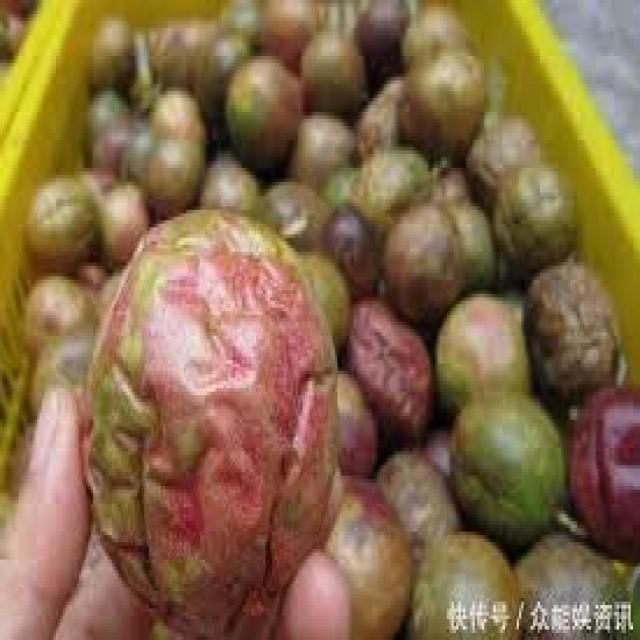organic waste: (77, 203, 337, 636), (445, 385, 563, 556), (522, 252, 622, 406), (323, 465, 408, 637), (431, 287, 528, 430), (563, 374, 638, 556), (340, 294, 430, 441), (512, 521, 624, 637), (405, 524, 514, 636), (393, 31, 484, 154), (370, 440, 461, 560), (377, 199, 465, 315), (491, 157, 573, 273), (223, 49, 300, 171), (430, 157, 496, 290), (242, 178, 328, 259), (463, 108, 533, 203), (26, 175, 96, 262), (21, 266, 100, 343), (354, 140, 426, 220), (298, 28, 365, 112), (300, 238, 349, 350), (321, 203, 377, 294), (346, 0, 409, 80), (277, 108, 349, 178), (332, 364, 374, 472), (193, 28, 244, 115), (254, 0, 324, 63), (28, 332, 91, 402), (193, 150, 256, 217), (142, 133, 198, 203), (98, 178, 146, 259), (154, 80, 207, 150), (354, 73, 398, 154), (398, 0, 458, 56), (84, 18, 132, 88), (114, 108, 154, 178), (81, 91, 126, 150), (144, 21, 186, 84), (174, 14, 210, 87), (216, 0, 253, 52), (76, 161, 118, 203), (619, 556, 638, 637), (0, 0, 32, 45), (319, 168, 349, 206), (72, 259, 105, 283), (12, 430, 28, 465)
